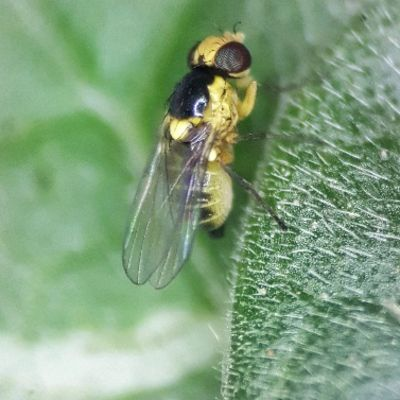Trifoli: (112, 13, 267, 323)
